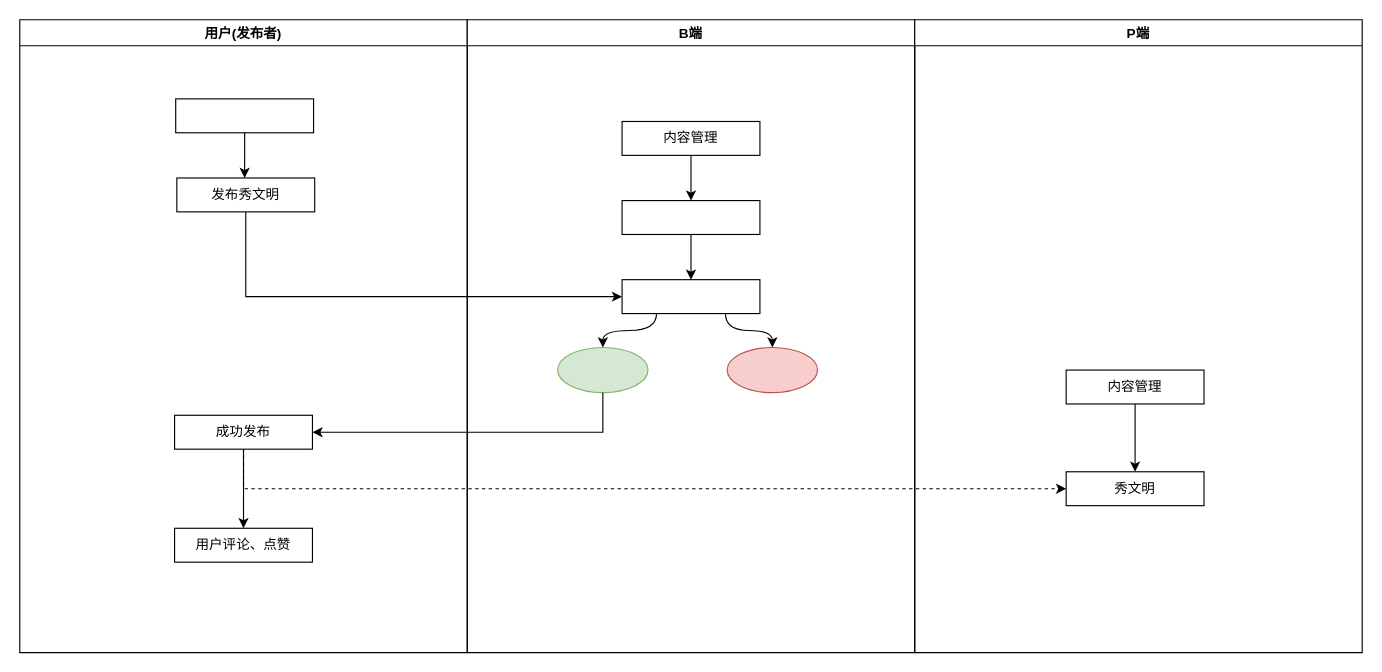
Some shapes in this 1382 by 672 pixel diagram are drawn without their labels. Here are the shapes that lost their labels. From the top down, the centre of each, then its label:
At (244,115): "注册用户".
At (690,216): "审核管理".
At (690,296): "文明秀".
At (602,369): "审核通过".
At (772,369): "未通过".
